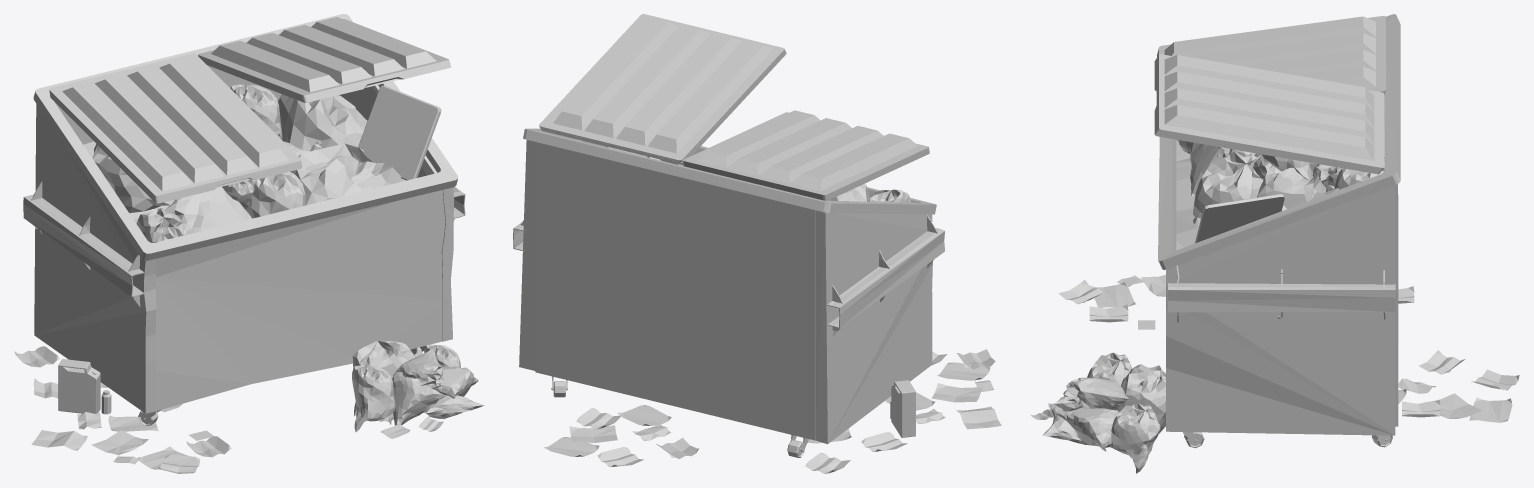
File: 19_dummy.obj
3 renders of one model, left to right at view 1: azimuth 30°, elevation 25°; view 2: azimuth 150°, elevation 25°; view 3: azimuth 270°, elevation 25°, orthographic. The views are drawn at different scales.
Bounding box in the file's own units: 1 × 0.7726 × 0.9708.
Materials: 1 (1 with a texture image).
